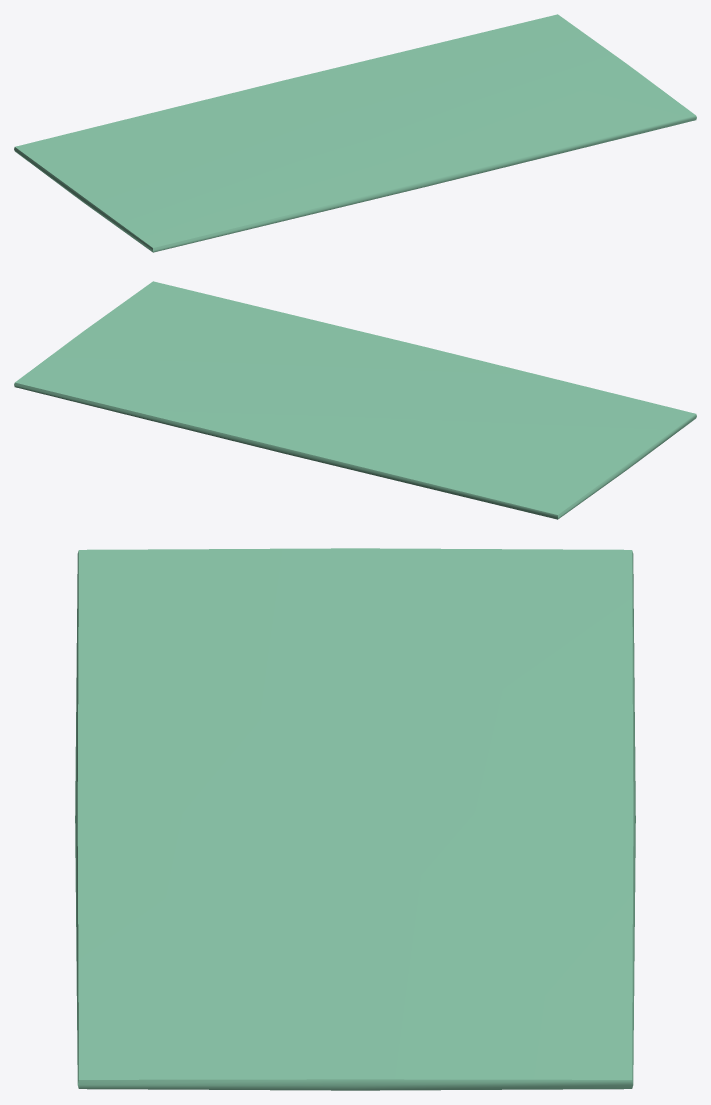
File: door-mat.glb
The picture shows the model from 3 angles, top to bottom: view 1: azimuth 30°, elevation 25°; view 2: azimuth 150°, elevation 25°; view 3: azimuth 270°, elevation 25°; orthographic projection. The views are drawn at different scales.
Parts seen in each view (by area): view 1: part; view 2: part; view 3: part.
Part boxes in pixels (x1,y1,x2,y2): part: [14, 14, 696, 252]; part: [14, 281, 696, 519]; part: [75, 548, 635, 1090].
Bounding box in the file's own units: 1.8 × 0.025 × 0.8.
Materials: 1 (1 with a texture image).
